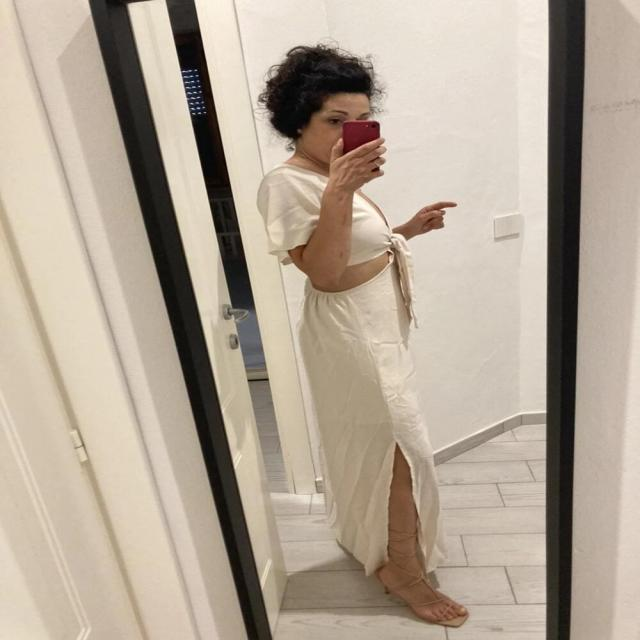clothes: (208, 153, 484, 585)
